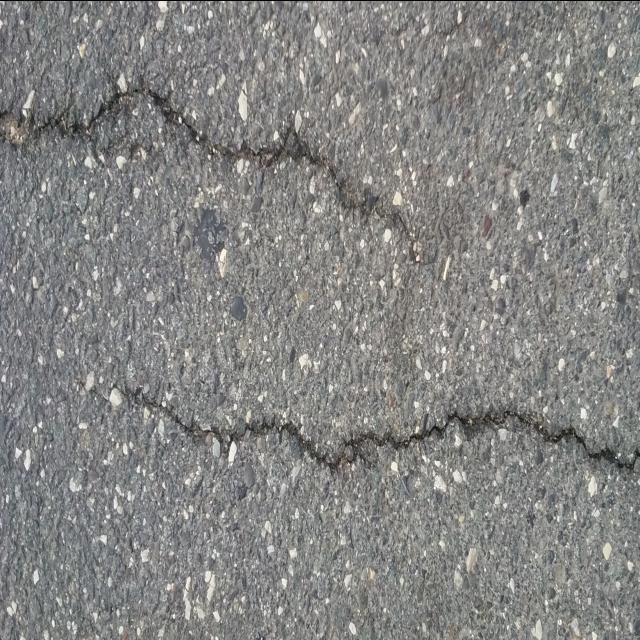Crack: (0, 86, 428, 268), (109, 382, 640, 472)
